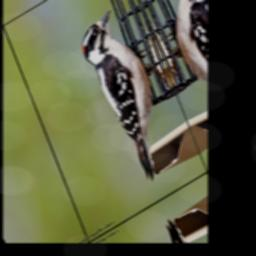Woodpecker: (72, 0, 190, 194)
